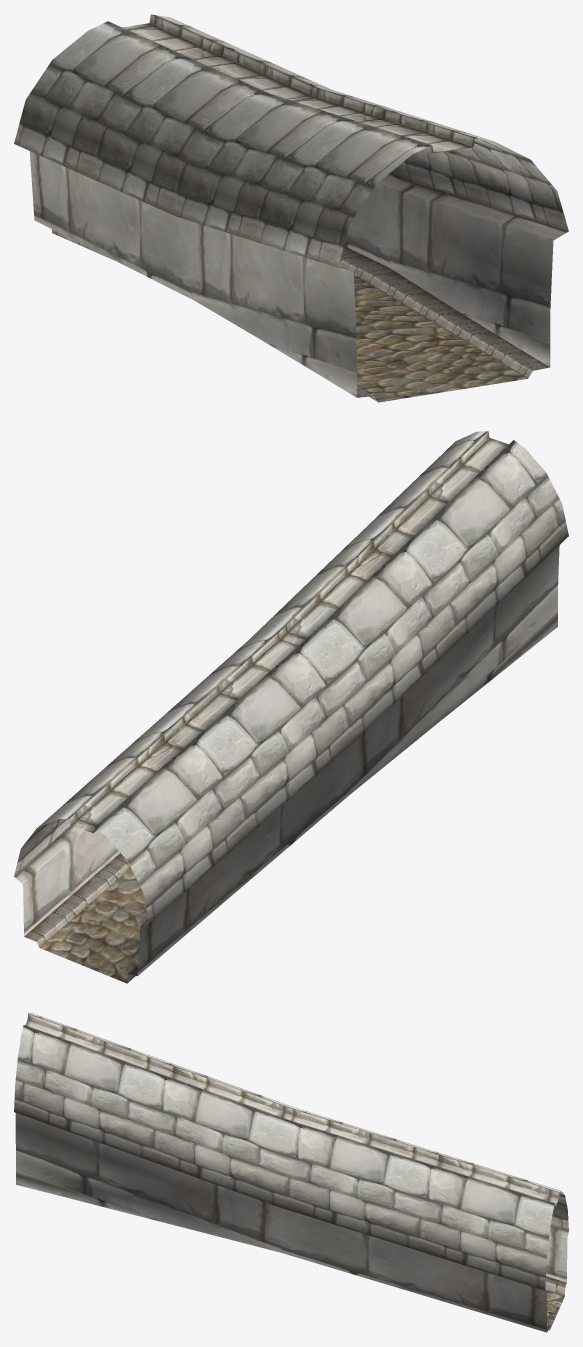
File: stormwind_002.fbx
3 renders of one model, top to bottom at view 1: azimuth 30°, elevation 25°; view 2: azimuth 150°, elevation 25°; view 3: azimuth 270°, elevation 25°, orthographic. The views are drawn at different scales.
Visible parts, largest first — view 1: stormwind_002_4, stormwind_002_11, stormwind_002_13, stormwind_002_5, stormwind_002_12; view 2: stormwind_002_4, stormwind_002_11, stormwind_002_5, stormwind_002_13, stormwind_002_12; view 3: stormwind_002_4, stormwind_002_11, stormwind_002_5, stormwind_002_13.
Boxes of the visible parts, box(x1,y1,x2,y2) form: stormwind_002_4: box(14, 14, 568, 267); stormwind_002_11: box(29, 151, 568, 397); stormwind_002_13: box(354, 276, 527, 402); stormwind_002_5: box(122, 14, 474, 153); stormwind_002_12: box(51, 229, 549, 401); stormwind_002_4: box(14, 431, 568, 923); stormwind_002_11: box(14, 545, 559, 975); stormwind_002_5: box(69, 431, 508, 833); stormwind_002_13: box(40, 868, 148, 983); stormwind_002_12: box(24, 853, 137, 983); stormwind_002_4: box(14, 1012, 568, 1290); stormwind_002_11: box(15, 1113, 568, 1332); stormwind_002_5: box(25, 1014, 559, 1207); stormwind_002_13: box(545, 1290, 564, 1330).
Size of the model in its own units: 16.17 by 20.06 by 38.93.
